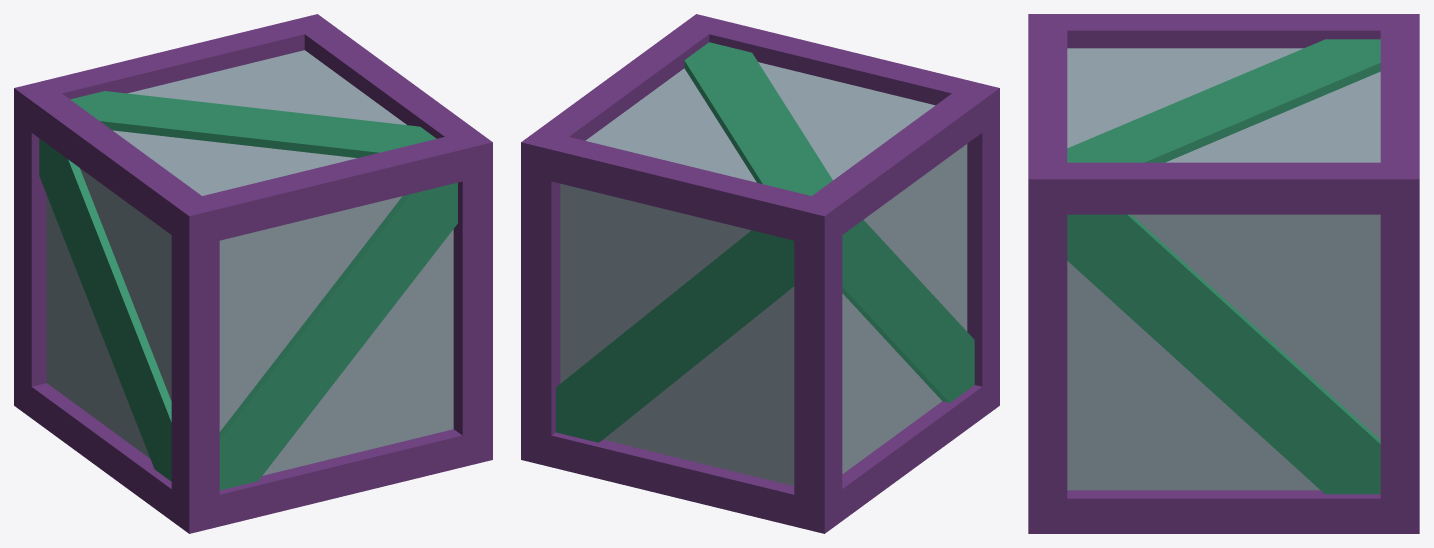
The model's file is sokoban-ball.fbx.
The picture shows the model from 3 angles, left to right: view 1: azimuth 30°, elevation 25°; view 2: azimuth 150°, elevation 25°; view 3: azimuth 270°, elevation 25°; orthographic projection. The views are drawn at different scales.
Parts seen in each view (by area): view 1: sokoban-ball; view 2: sokoban-ball; view 3: sokoban-ball.
Boxes of the visible parts, x1,y1,x2,y2 form: sokoban-ball: (14,14,492,533); sokoban-ball: (521,14,999,533); sokoban-ball: (1028,14,1419,533).
Size of the model in its own units: 200 by 200 by 200.
